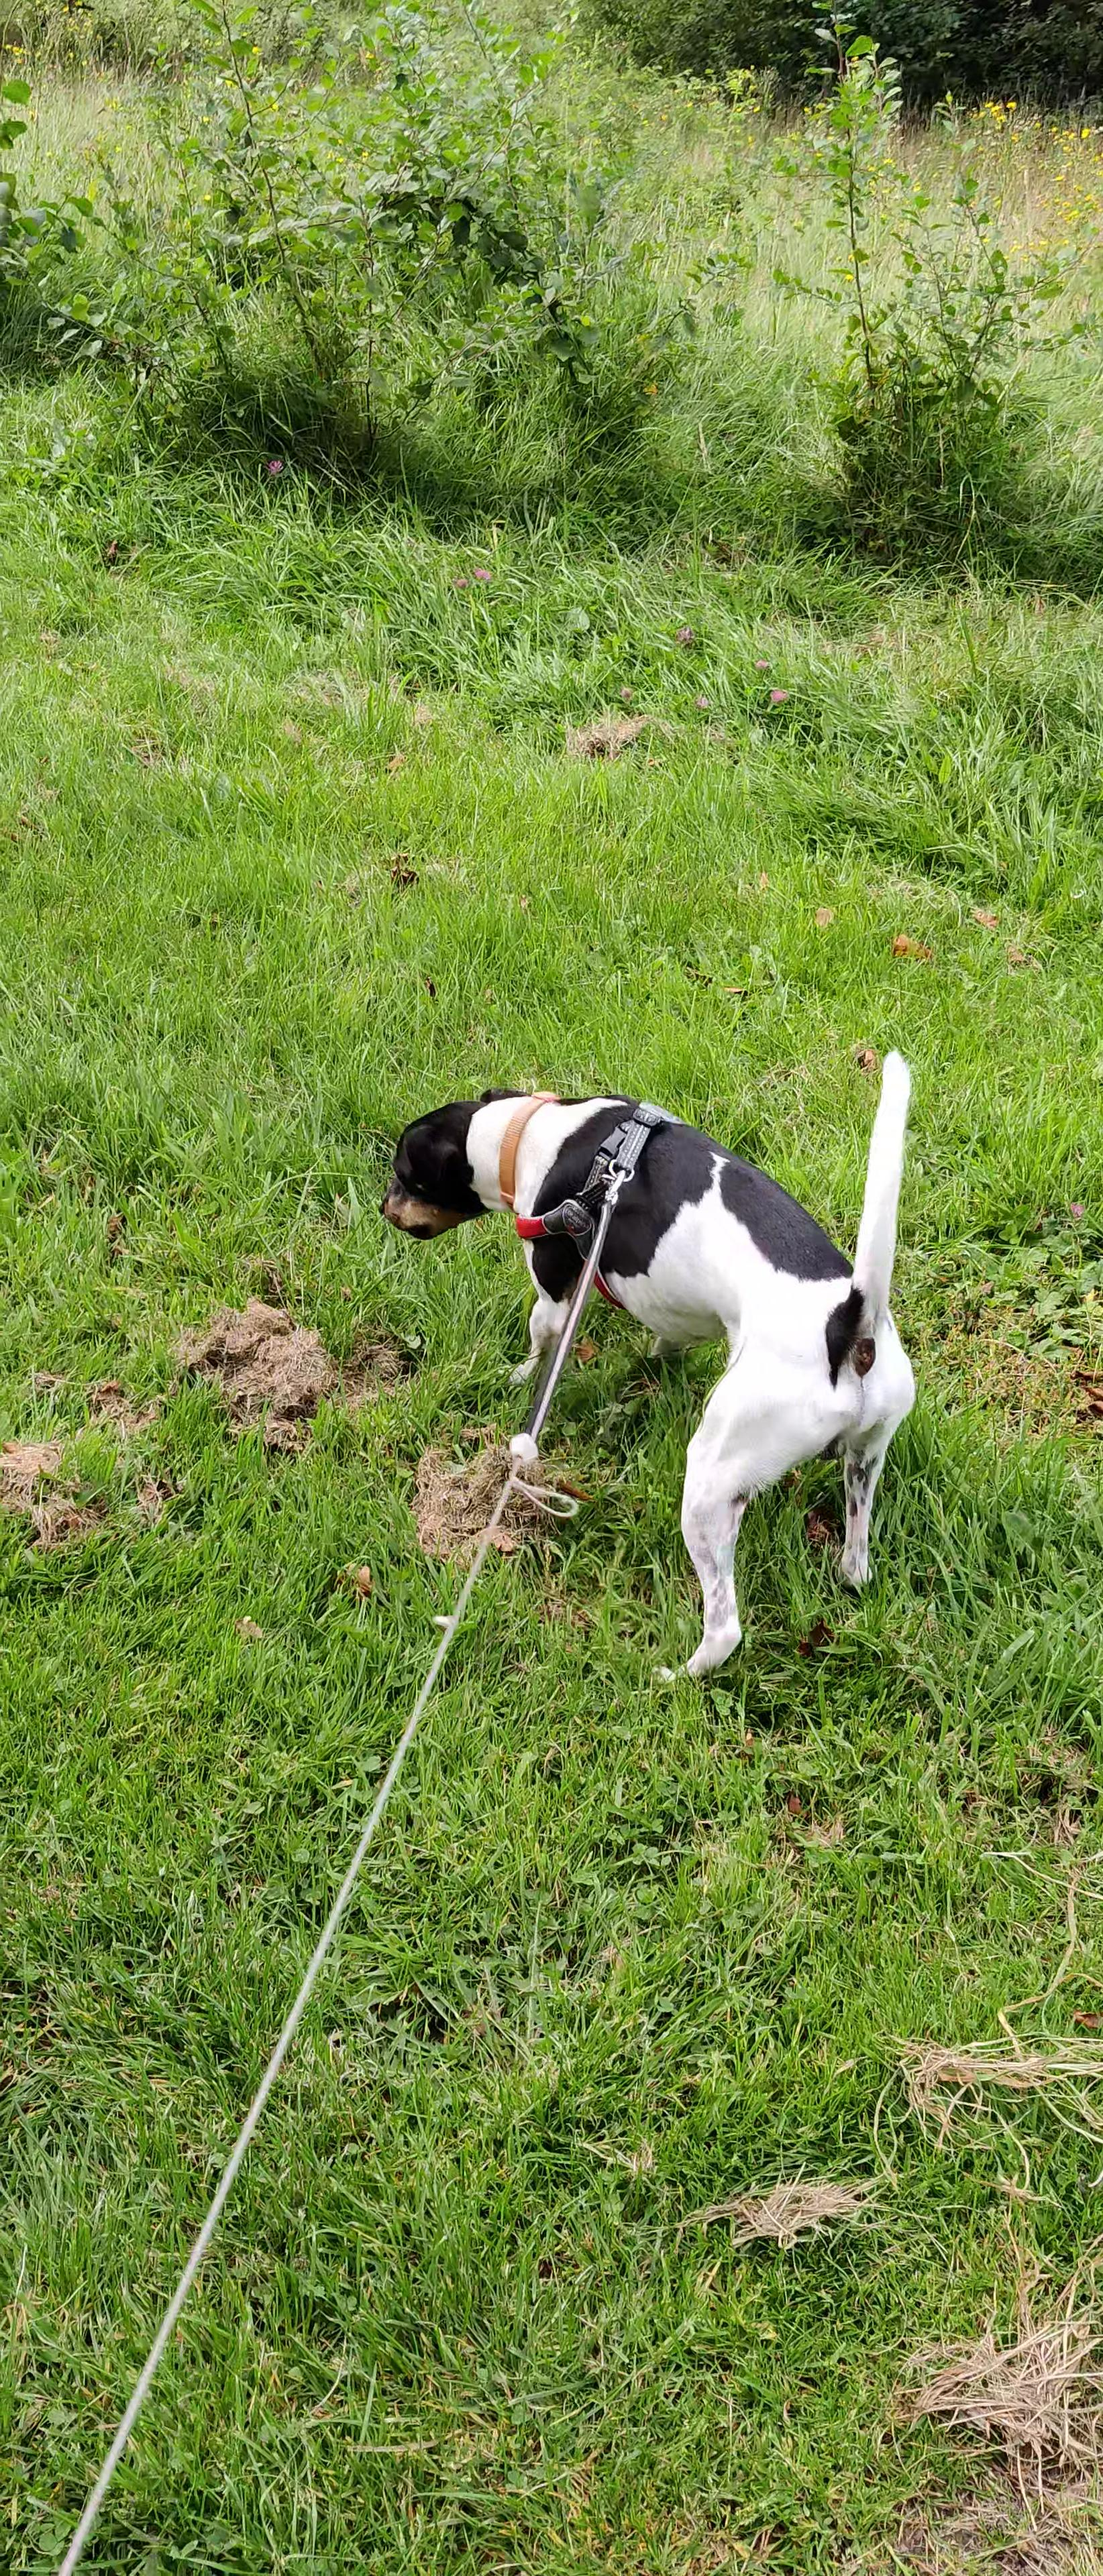Dog: (373, 1035, 927, 1694)
